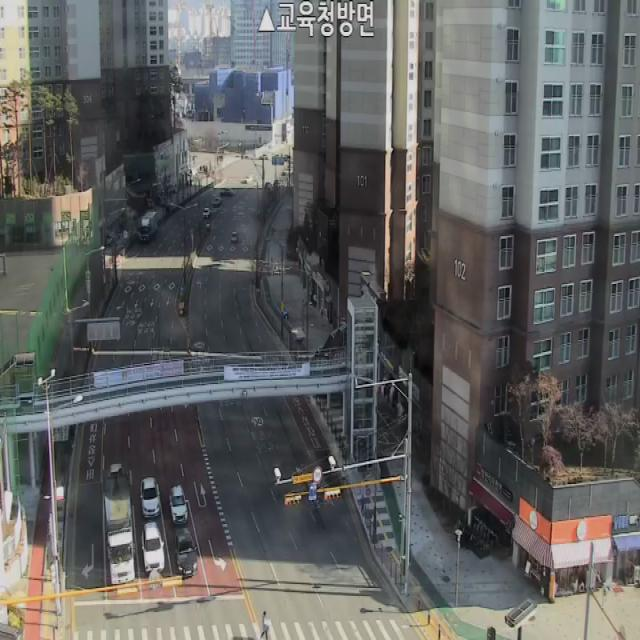Car: (142, 522, 165, 574), (175, 528, 198, 578), (140, 477, 161, 518), (170, 484, 188, 524), (220, 188, 235, 196), (213, 197, 222, 207), (202, 207, 210, 218), (231, 232, 238, 242)
Truck: (104, 463, 135, 584), (141, 211, 157, 242)
